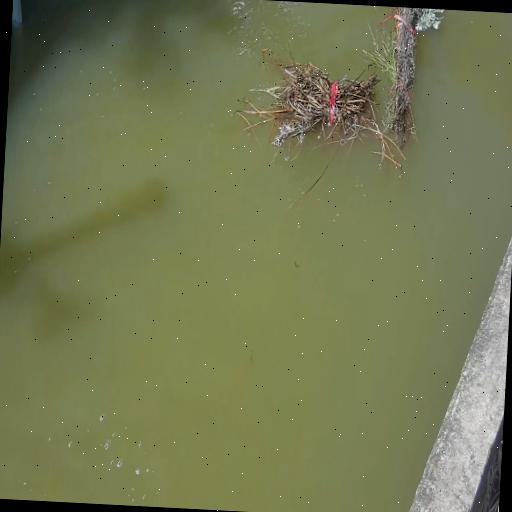twig: (271, 51, 380, 165), (374, 6, 450, 164)
